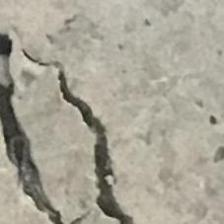Crack: (0, 31, 148, 224)
